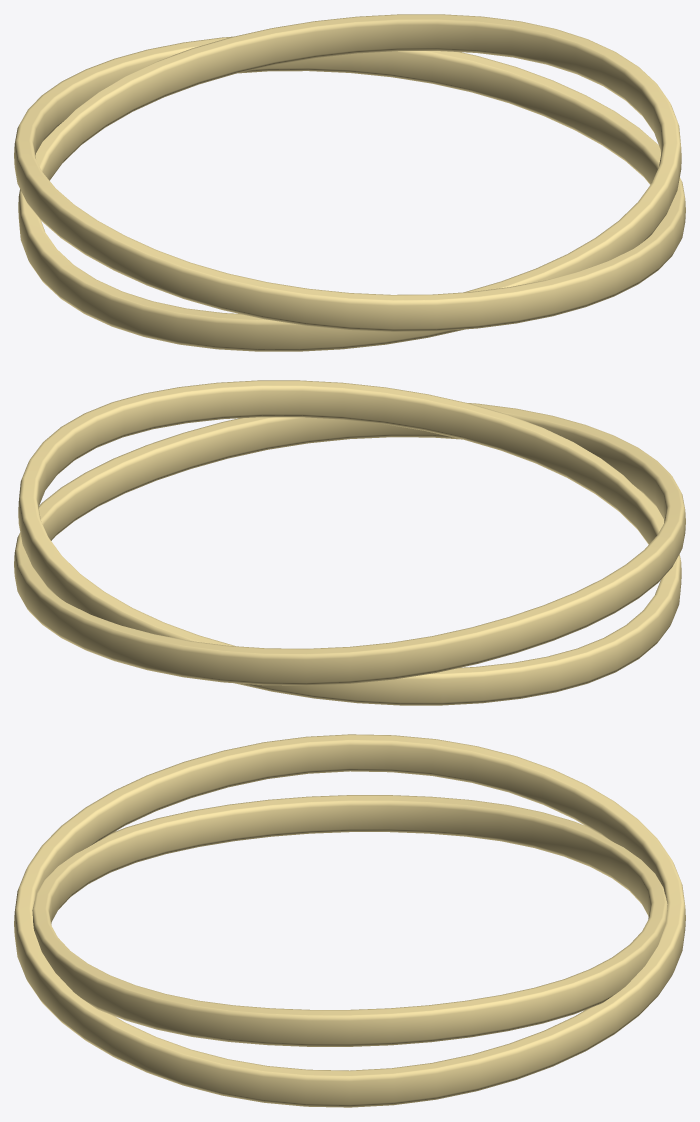
File: 1-gold.gltf
The picture shows the model from 3 angles, top to bottom: view 1: azimuth 30°, elevation 25°; view 2: azimuth 150°, elevation 25°; view 3: azimuth 270°, elevation 25°; orthographic projection.
Parts seen in each view (by area): view 1: Cylinder002, Cylinder001; view 2: Cylinder002, Cylinder001; view 3: Cylinder001, Cylinder002.
Boxes of the visible parts, box(x1,y1,x2,y2) form: Cylinder002: box(18, 14, 681, 351); Cylinder001: box(14, 36, 685, 331); Cylinder002: box(18, 380, 681, 705); Cylinder001: box(14, 403, 685, 685); Cylinder001: box(14, 734, 685, 1107); Cylinder002: box(32, 795, 667, 1046).
Bounding box in the file's own units: 19.83 × 3 × 19.83.
